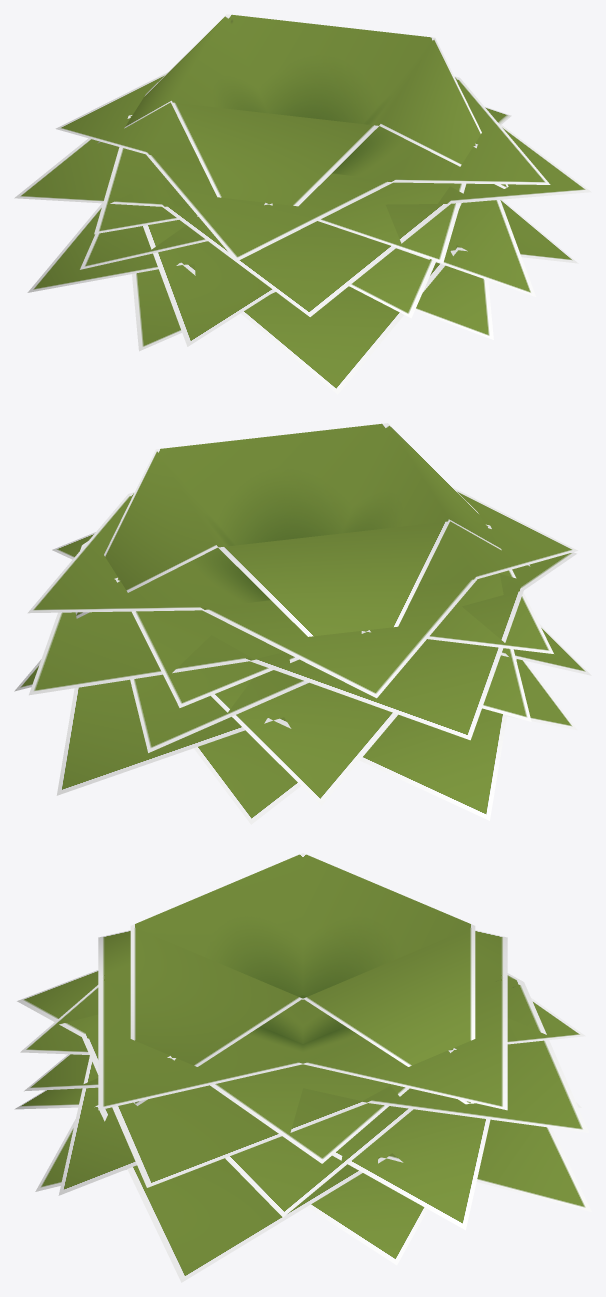
The model's file is Plante_pot.fbx.
3 renders of one model, top to bottom at view 1: azimuth 30°, elevation 25°; view 2: azimuth 150°, elevation 25°; view 3: azimuth 270°, elevation 25°, orthographic. The views are drawn at different scales.
Visible parts, largest first — view 1: polySurface43; view 2: polySurface43; view 3: polySurface43.
Part boxes in pixels (x1,y1,x2,y2): polySurface43: (14, 14, 591, 394); polySurface43: (14, 423, 591, 824); polySurface43: (14, 853, 591, 1282).
Size of the model in its own units: 0.4846 by 0.2393 by 0.4846.
